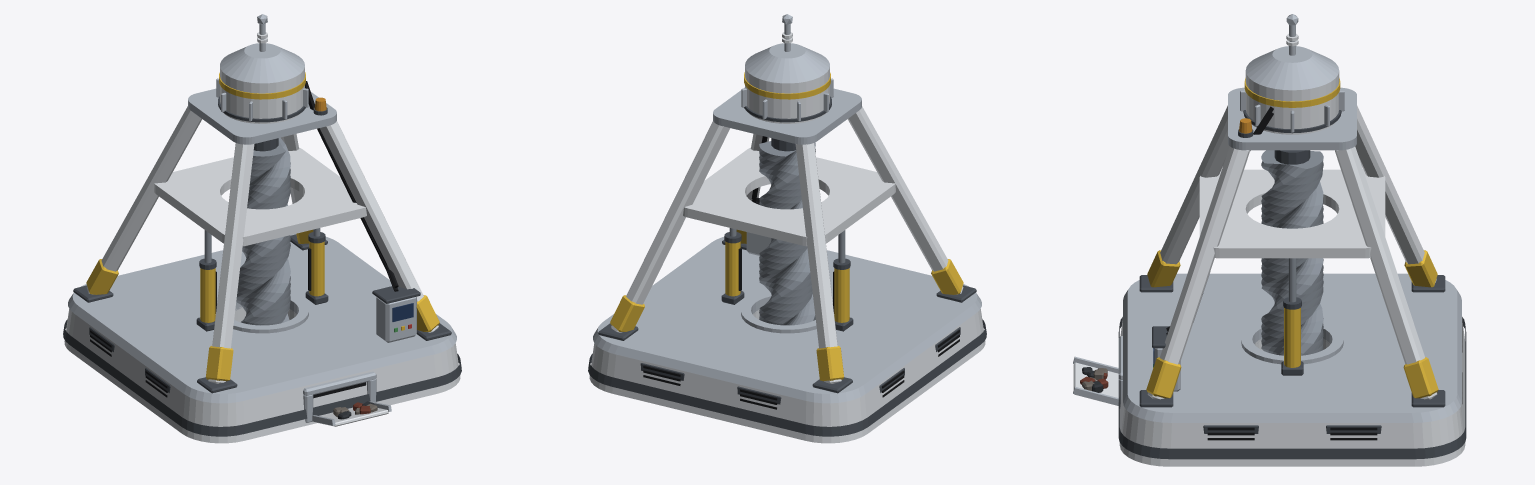
Rendered from foreuse_eco_t3.glb.
The picture shows the model from 3 angles, left to right: view 1: azimuth 30°, elevation 25°; view 2: azimuth 150°, elevation 25°; view 3: azimuth 270°, elevation 25°; orthographic projection. The views are drawn at different scales.
Parts seen in each view (by area): view 1: socle_dessus.004, pieces_blanc.002, socle.004, collier.004, foret_corps.006, socle_bande.002, pieces_jaune.004, plateau.004, capsule_dome.002, capsule.002, pieces_acier_sombre.008, pieces_gris_clair.002 (+5 smaller); view 2: socle_dessus.004, pieces_blanc.002, socle.004, collier.004, foret_corps.006, socle_bande.002, pieces_jaune.004, plateau.004, pieces_acier_sombre.008, capsule_dome.002, capsule.002, pieces_noir.008 (+3 smaller); view 3: socle_dessus.004, pieces_blanc.002, socle.004, collier.004, foret_corps.006, socle_bande.002, pieces_jaune.004, plateau.004, capsule_dome.002, capsule.002, pieces_acier_sombre.008, pieces_gris_clair.002 (+4 smaller).
Part boxes in pixels (left/top/right/bottom): socle_dessus.004: left=68, top=234, right=456, bottom=403; pieces_blanc.002: left=86, top=106, right=438, bottom=426; socle.004: left=64, top=306, right=460, bottom=443; collier.004: left=154, top=147, right=366, bottom=246; foret_corps.006: left=236, top=137, right=290, bottom=325; socle_bande.002: left=63, top=319, right=461, bottom=436; pieces_jaune.004: left=86, top=229, right=439, bottom=381; plateau.004: left=188, top=88, right=336, bottom=144; capsule_dome.002: left=220, top=43, right=304, bottom=83; capsule.002: left=220, top=67, right=304, bottom=123; pieces_acier_sombre.008: left=73, top=232, right=451, bottom=393; pieces_gris_clair.002: left=216, top=14, right=391, bottom=425; socle_dessus.004: left=593, top=237, right=981, bottom=403; pieces_blanc.002: left=611, top=106, right=963, bottom=383; socle.004: left=589, top=309, right=985, bottom=443; collier.004: left=683, top=147, right=895, bottom=246; foret_corps.006: left=759, top=141, right=815, bottom=325; socle_bande.002: left=588, top=319, right=986, bottom=436; pieces_jaune.004: left=610, top=229, right=963, bottom=381; plateau.004: left=713, top=87, right=861, bottom=144; pieces_acier_sombre.008: left=598, top=232, right=976, bottom=404; capsule_dome.002: left=745, top=43, right=829, bottom=83; capsule.002: left=745, top=67, right=829, bottom=123; pieces_noir.008: left=643, top=136, right=959, bottom=409; socle_dessus.004: left=1123, top=273, right=1461, bottom=422; pieces_blanc.002: left=1073, top=105, right=1437, bottom=405; socle.004: left=1119, top=318, right=1465, bottom=466; collier.004: left=1199, top=169, right=1385, bottom=258; foret_corps.006: left=1261, top=150, right=1323, bottom=355; socle_bande.002: left=1118, top=317, right=1466, bottom=459; pieces_jaune.004: left=1146, top=250, right=1438, bottom=398; plateau.004: left=1228, top=87, right=1356, bottom=150; capsule_dome.002: left=1245, top=46, right=1339, bottom=90; capsule.002: left=1245, top=71, right=1339, bottom=134; pieces_acier_sombre.008: left=1139, top=275, right=1445, bottom=433; pieces_gris_clair.002: left=1073, top=14, right=1344, bottom=408.
Size of the model in its own units: 2 by 2.29 by 2.5.
